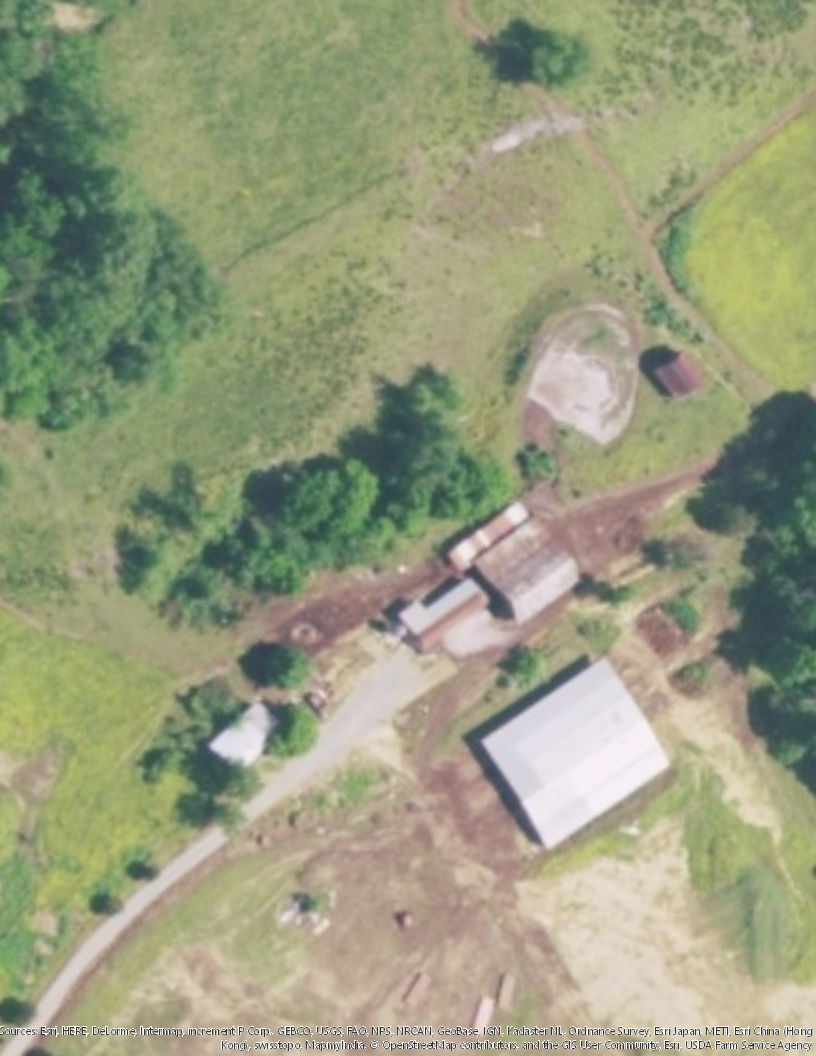cafo: (476, 650, 677, 848), (390, 498, 591, 648)
